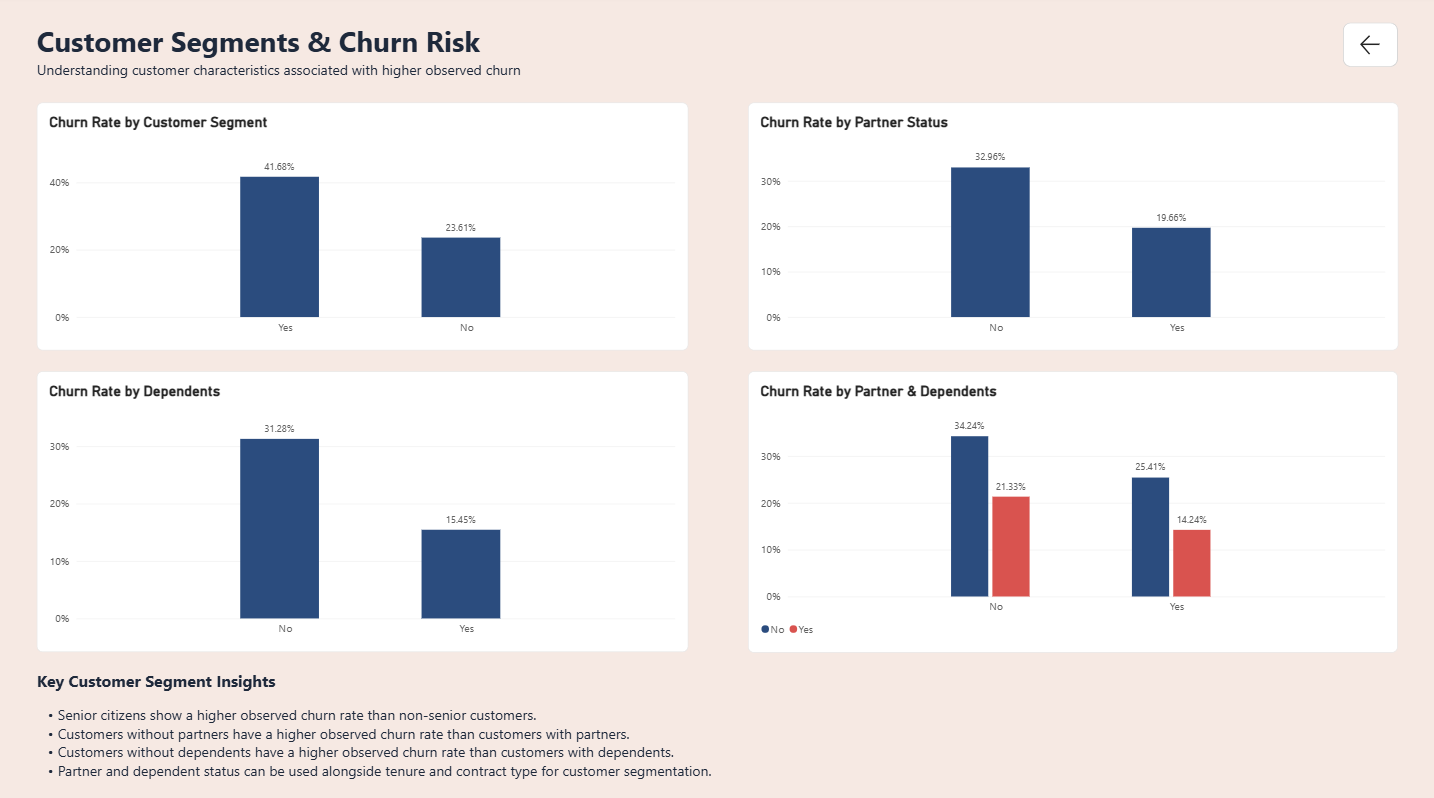

What the dashboard file says about the page in this screenshot:
{"tool":"powerbi","page":{"name":"Customer Segmentation","canvas":[1920,1080],"ordinal":2},"visuals":[{"type":"clusteredColumnChart","title":"Churn Rate by Customer Segment","fields":{"Category":["customer_churn.SeniorCitizen"],"Y":["customer_churn.Churn Rate"]},"box":[52.3,143,870.4,331.4],"z":0},{"type":"clusteredColumnChart","title":"Churn Rate by Partner Status","fields":{"Category":["customer_churn.Partner"],"Y":["customer_churn.Churn Rate"]},"box":[1001.2,143,868.6,331.4],"z":1000},{"type":"clusteredColumnChart","title":"Churn Rate by Dependents","fields":{"Category":["customer_churn.Dependents"],"Y":["customer_churn.Churn Rate"]},"box":[52.3,502.3,870.4,375],"z":2000},{"type":"clusteredColumnChart","title":"Churn Rate by Partner & Dependents","fields":{"Category":["customer_churn.Partner"],"Series":["customer_churn.Dependents"],"Y":["customer_churn.Churn Rate"]},"box":[1001.2,502.3,868.3,375.7],"z":3000},{"type":"textbox","box":[52.3,901.7,948.8,165.7],"z":4000},{"type":"textbox","box":[52.3,36.6,948.8,80.2],"z":5000},{"type":"actionButton","box":[1796.5,36.6,73.3,59.3],"z":5002}]}

Visuals, with their boxes in screenshot pixels (x1, y1, x2, y2), scaled from the page's 1920x1080 canvas onto the 1434x798 screenshot:
"Churn Rate by Customer Segment" clusteredColumnChart: region(39, 106, 689, 351)
"Churn Rate by Partner Status" clusteredColumnChart: region(748, 106, 1397, 351)
"Churn Rate by Dependents" clusteredColumnChart: region(39, 371, 689, 648)
"Churn Rate by Partner & Dependents" clusteredColumnChart: region(748, 371, 1396, 649)
textbox: region(39, 666, 748, 789)
textbox: region(39, 27, 748, 86)
actionButton: region(1342, 27, 1397, 71)
